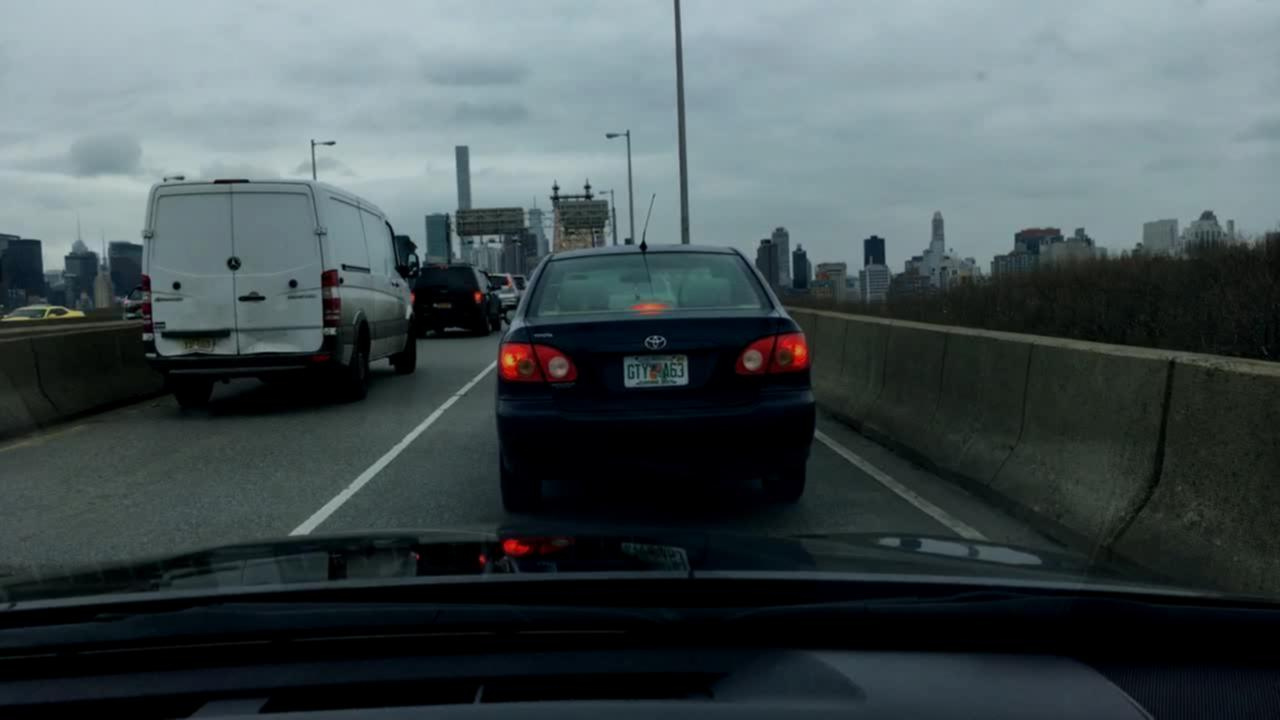Mercedes: (217, 250, 247, 277)
Toyota: (641, 335, 671, 354)
